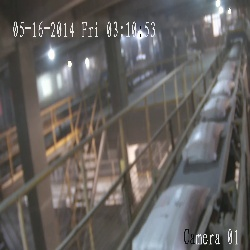cementbag: (131, 183, 209, 250), (182, 121, 224, 164), (200, 95, 229, 119), (210, 79, 234, 95), (217, 68, 234, 79)
